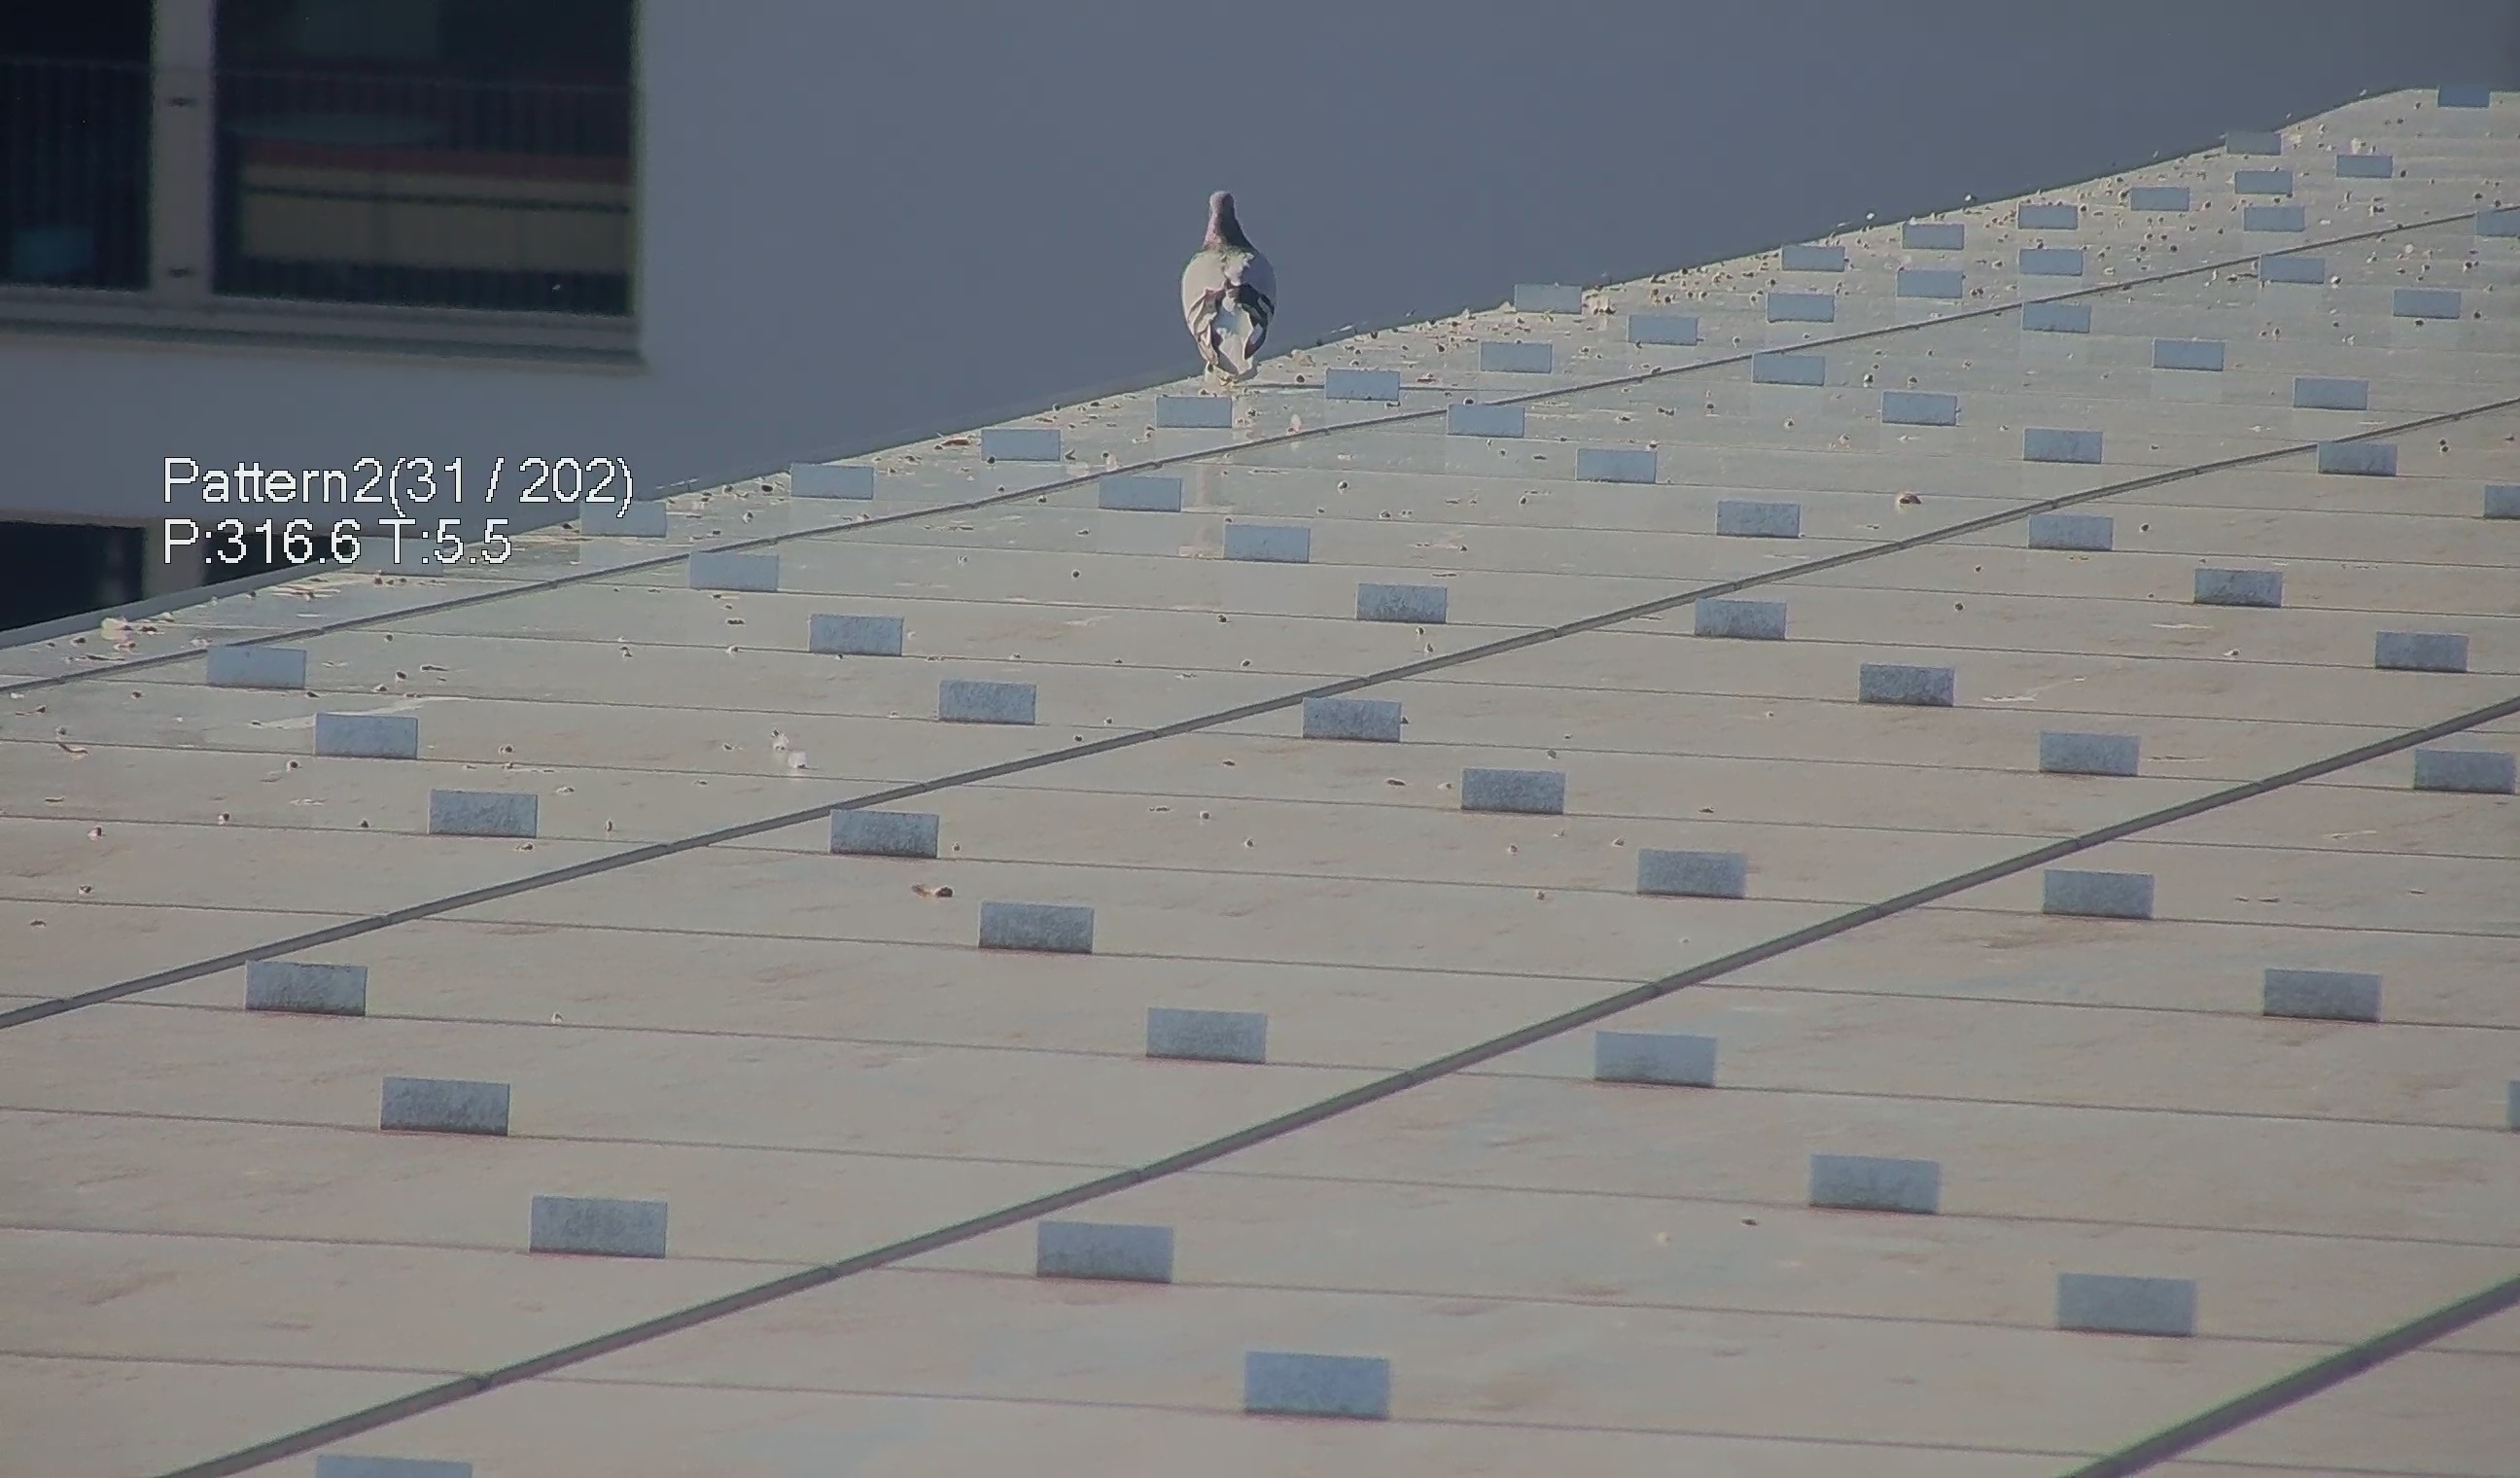Pigeon: (1166, 178, 1278, 389)
